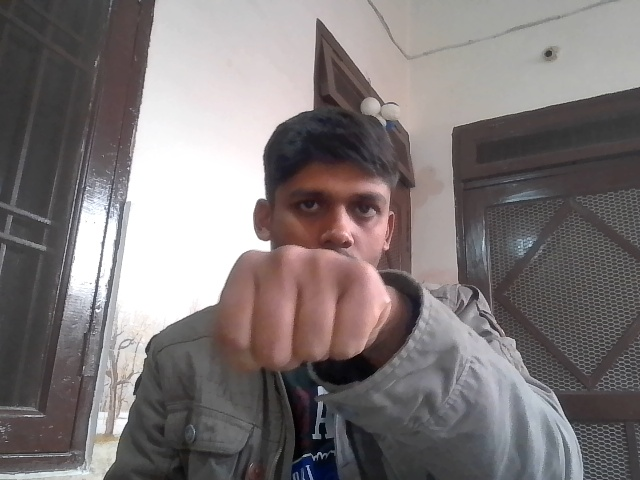Yes: (198, 235, 400, 388)
